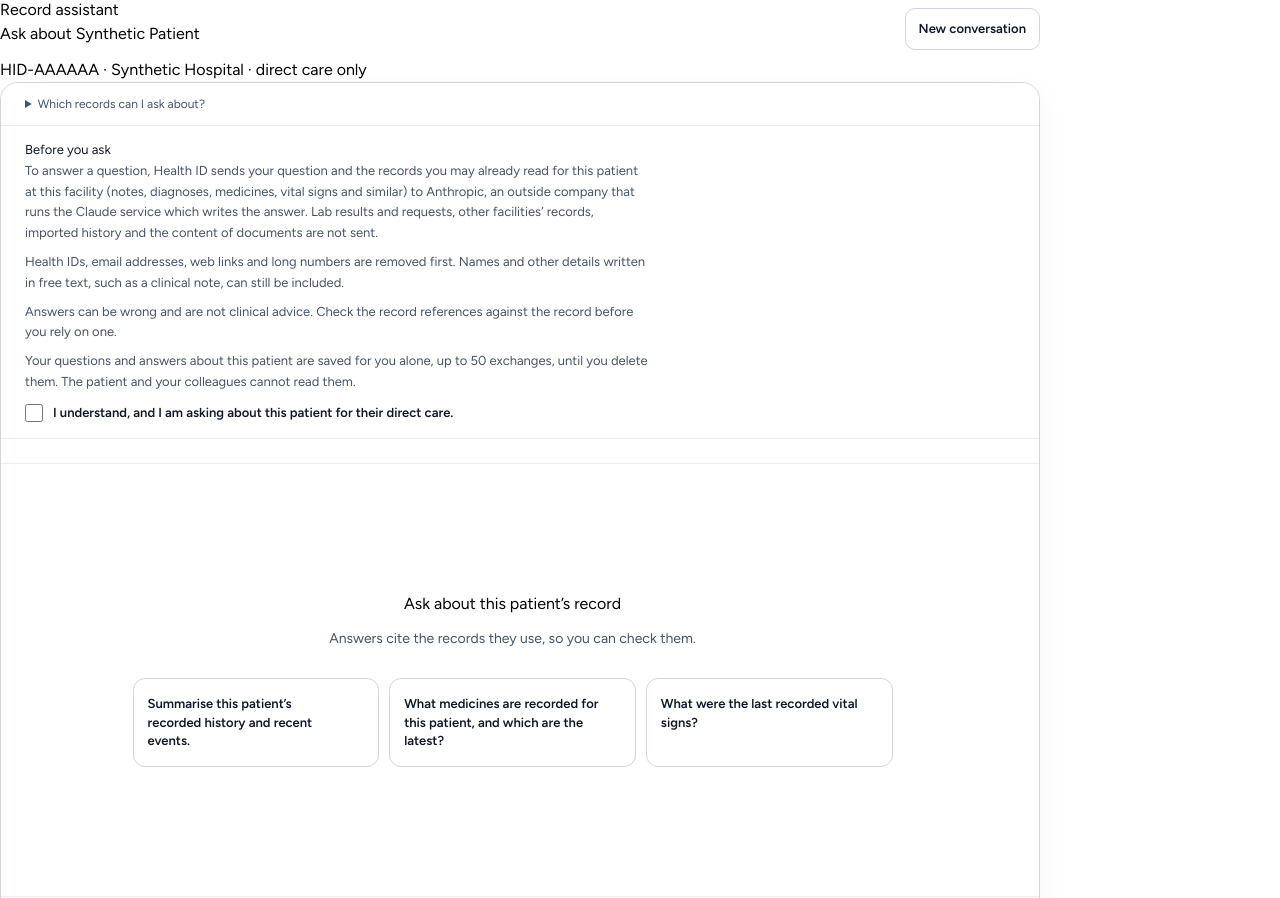
Test case: StaffRecordChat › asks for the notice again when its version changed, and refreshes availability
Check: the heading "Before you ask" is shown, box [25, 142, 111, 157]
Step 1. Click the checkbox labelled "I understand" → (34, 413), box [25, 404, 43, 422]
(page scrolled)
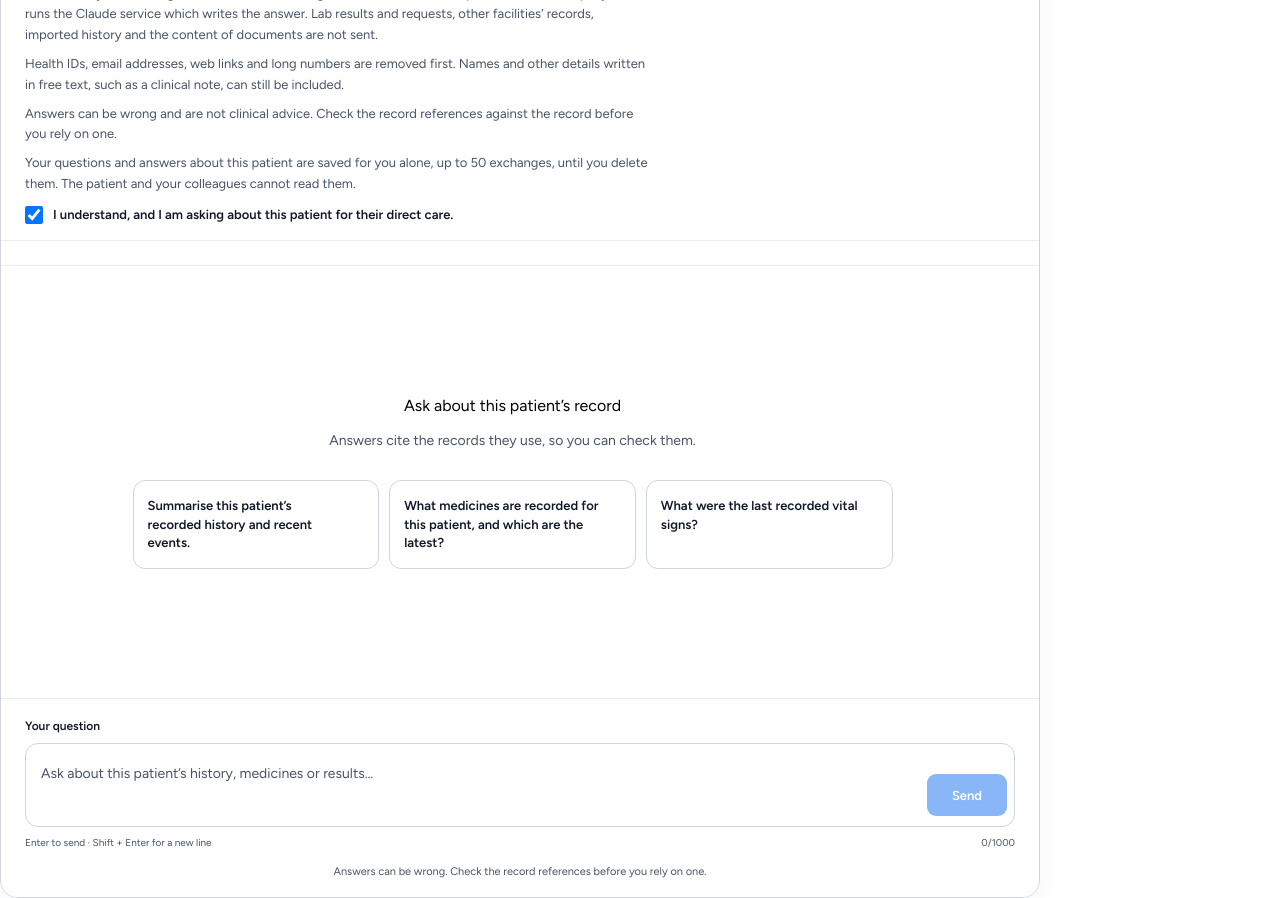
Step 2. Type "What was the blood pressure?" into the text box labelled "Your question" → (475, 785), box [33, 751, 917, 819]
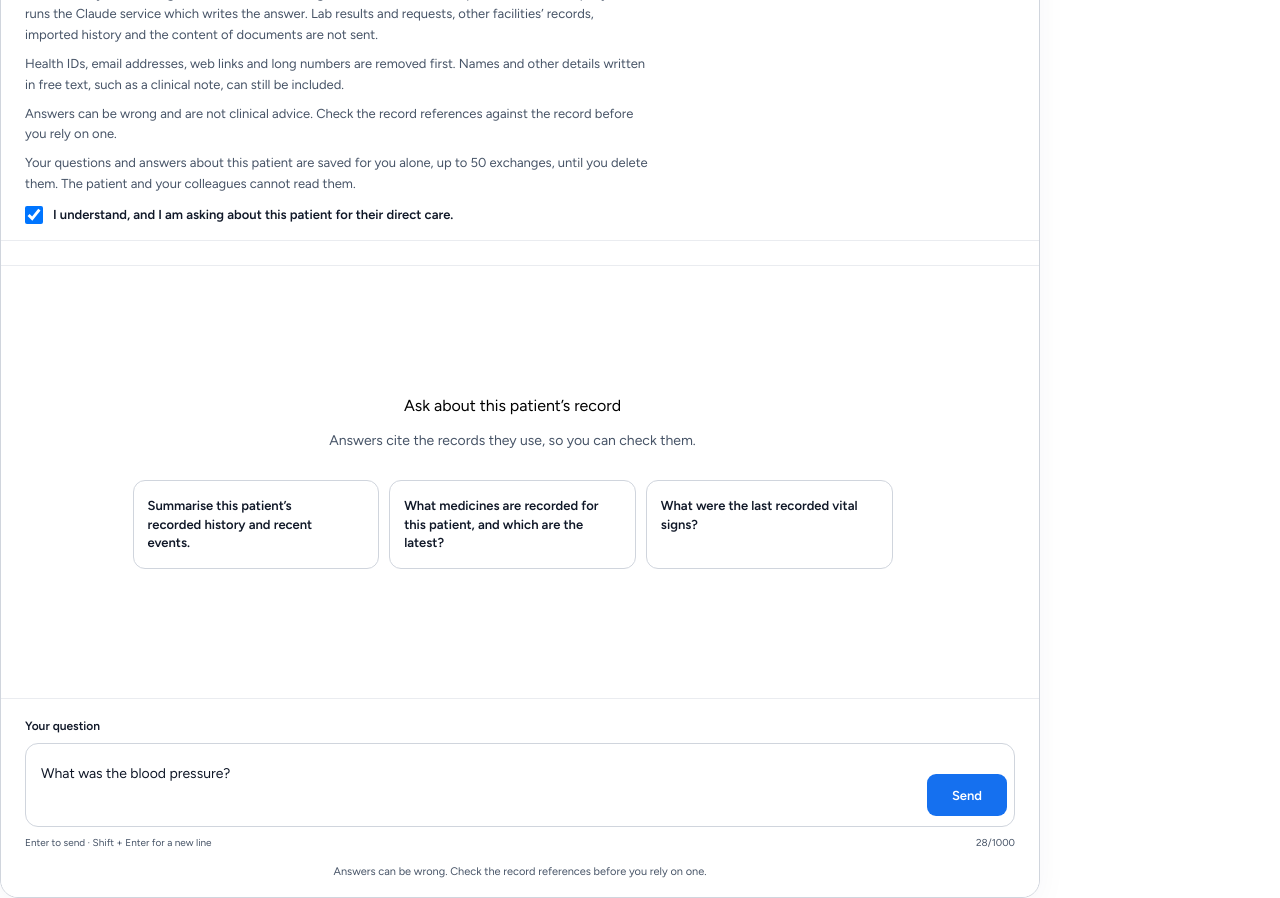
Step 3. Click the button "Send" → (967, 795), box [927, 774, 1007, 816]
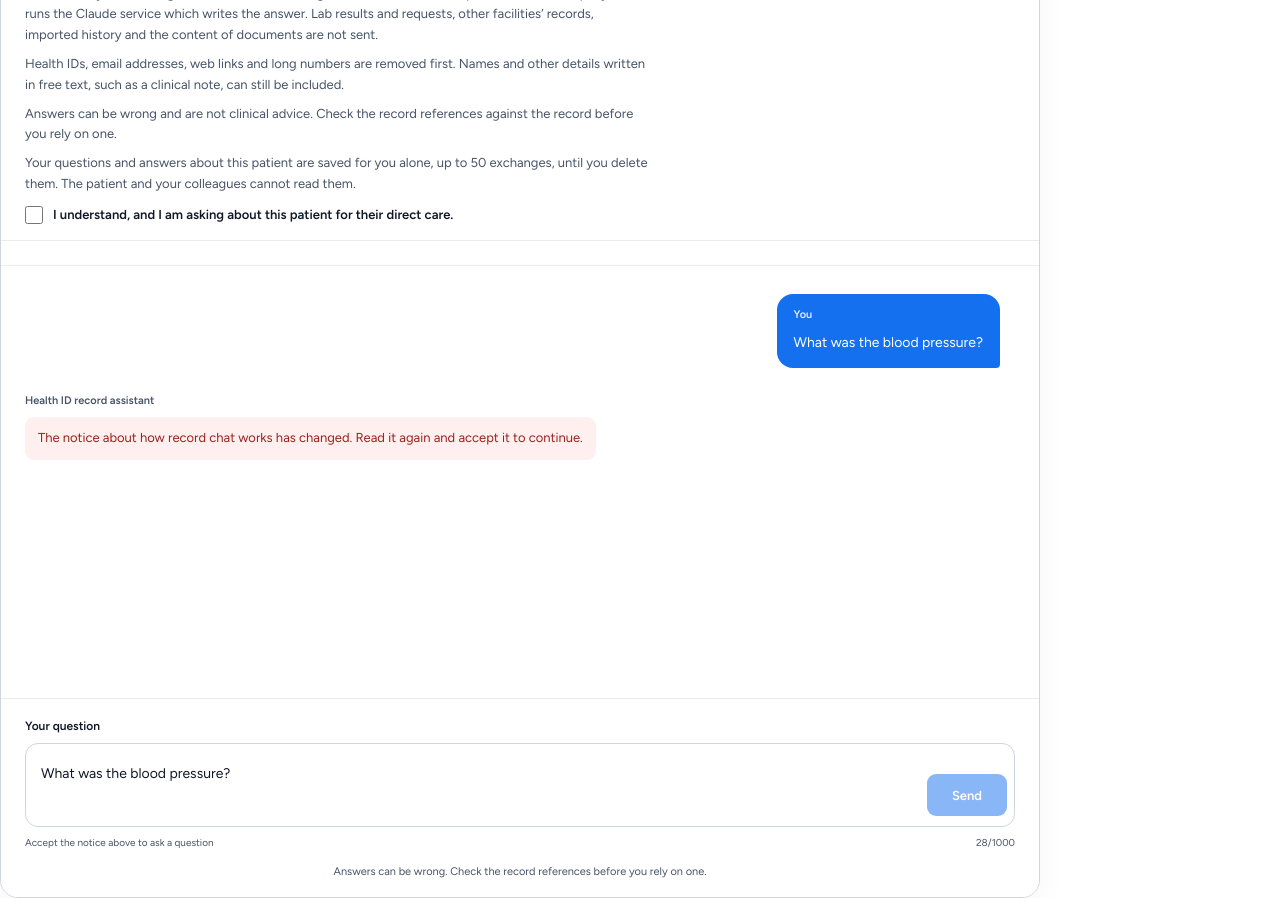
Check: the checkbox labelled "I understand" is not checked, box [25, 206, 43, 224]
Check: the text "The notice about how record chat works has changed" is shown, box [38, 430, 583, 445]
Check: the button "Send" is disabled, box [927, 774, 1007, 816]
